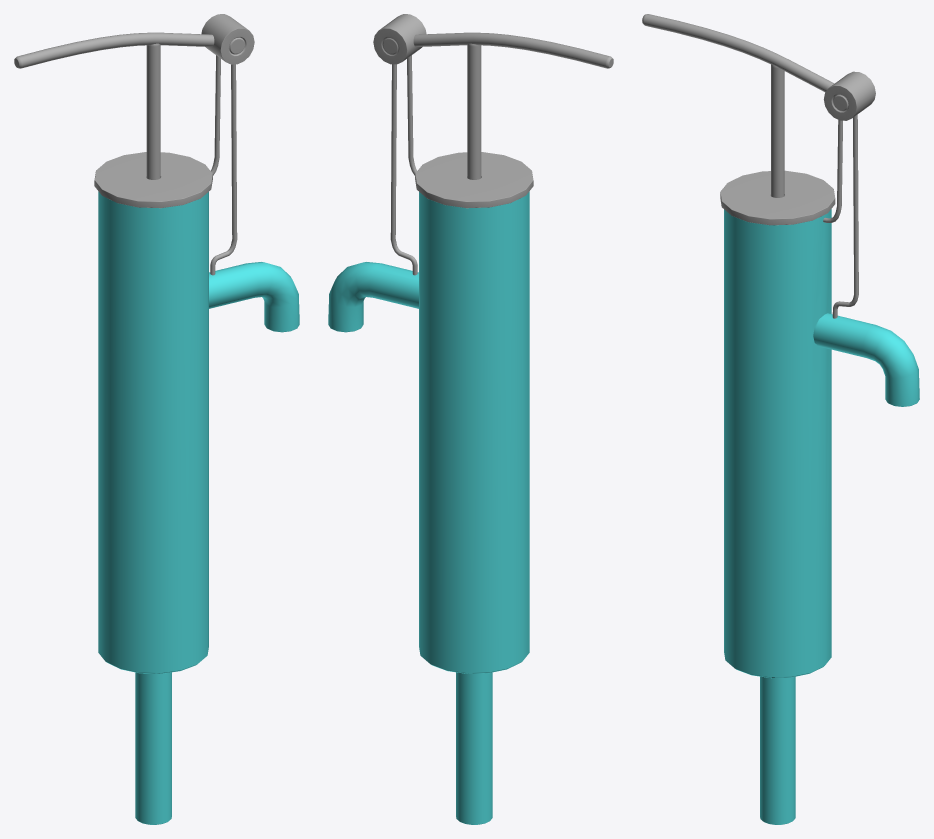
Rendered from Nasos.fbx.
3 renders of one model, left to right at view 1: azimuth 30°, elevation 25°; view 2: azimuth 150°, elevation 25°; view 3: azimuth 330°, elevation 25°, orthographic. The views are drawn at different scales.
Parts seen in each view (by area): view 1: Circle.006, BezierCurve.003, Circle.004; view 2: Circle.006, BezierCurve.003, Circle.004; view 3: Circle.006, BezierCurve.003, Circle.004.
Part boxes in pixels (left/top/right/bottom): Circle.006: left=94, top=14, right=299, bottom=824; BezierCurve.003: left=14, top=32, right=214, bottom=68; Circle.004: left=146, top=43, right=160, bottom=179; Circle.006: left=328, top=14, right=533, bottom=824; BezierCurve.003: left=413, top=32, right=613, bottom=68; Circle.004: left=467, top=43, right=481, bottom=179; Circle.006: left=720, top=71, right=919, bottom=824; BezierCurve.003: left=642, top=14, right=834, bottom=92; Circle.004: left=771, top=64, right=784, bottom=197.
Bounding box in the file's own units: 128 × 346 × 47.08.
